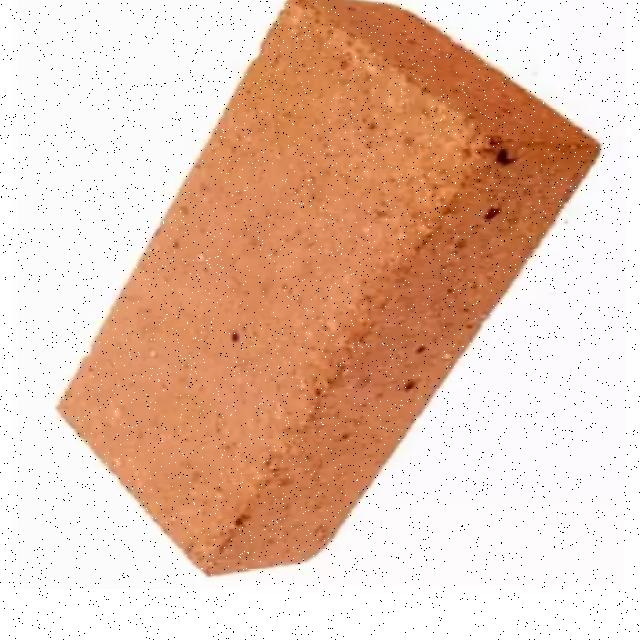bricks: (55, 0, 607, 577)
